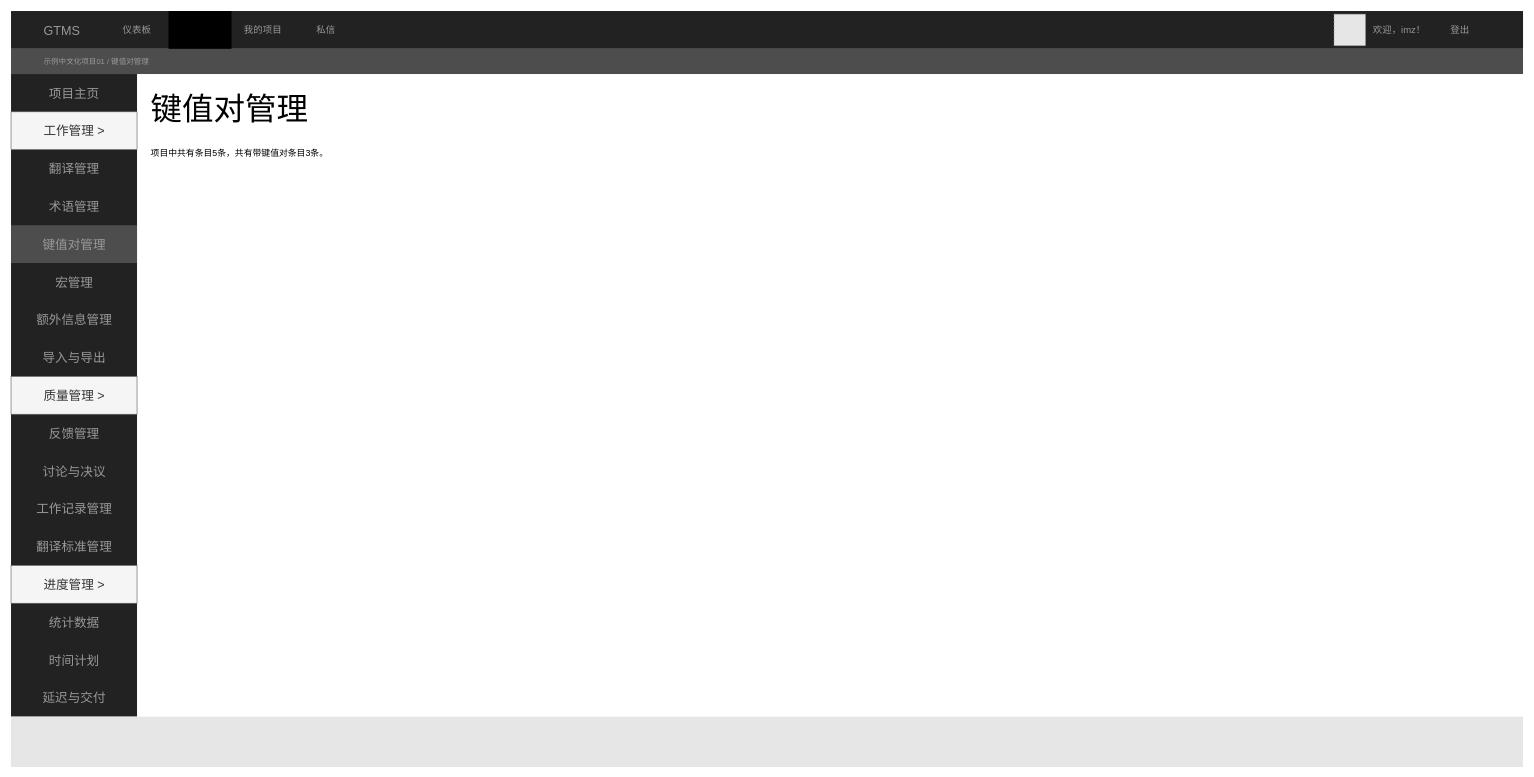
This 1534x777 diagram has some shape labels left out. Grey dashed boxes stand in for pictures. Here are the shapes that lost their labels. From the top down, the centre of each, then its label:
point (199, 30): 项目浏览
point (767, 741): Yifan Xu 毕业设计 @天津工业大学
